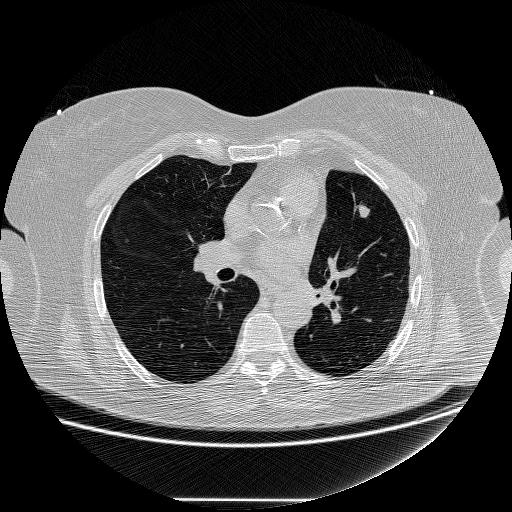nodule: (356, 203, 372, 219)
